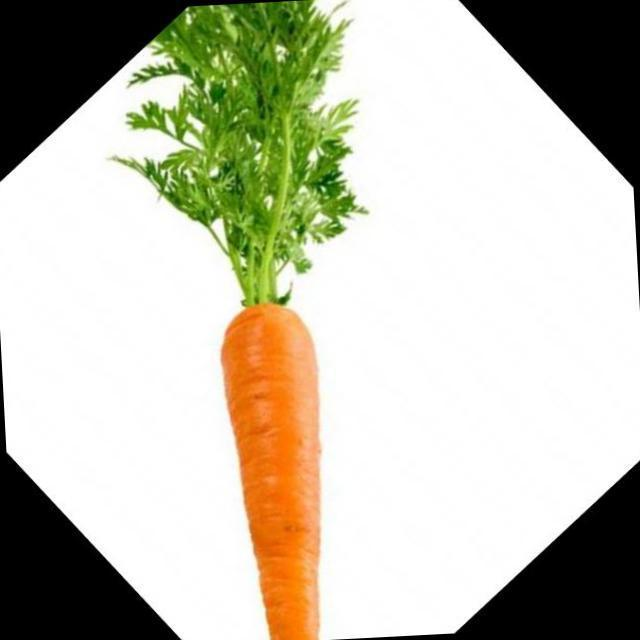Carrot: (112, 1, 365, 640)
